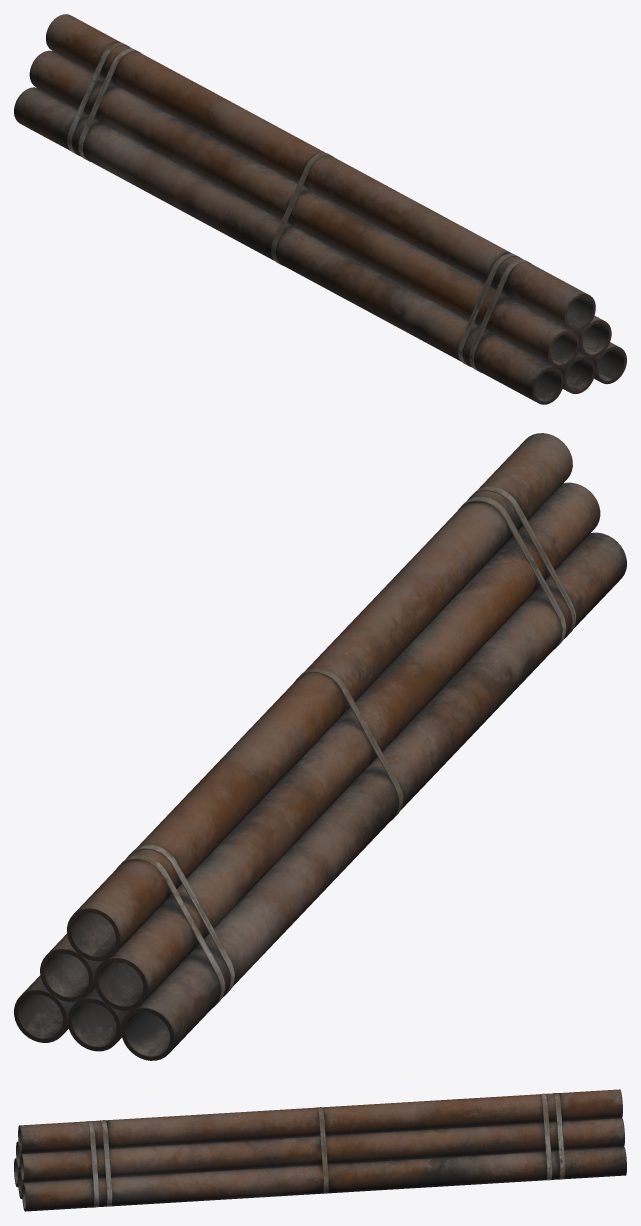
File: Tubes Scene.glb
3 renders of one model, top to bottom at view 1: azimuth 30°, elevation 25°; view 2: azimuth 150°, elevation 25°; view 3: azimuth 270°, elevation 25°, orthographic. The views are drawn at different scales.
Visible parts, largest first — view 1: Набор труб; view 2: Набор труб; view 3: Набор труб.
Part boxes in pixels (box(x1,y1,x2,y2)): Набор труб: box(14, 14, 626, 404); Набор труб: box(14, 433, 626, 1060); Набор труб: box(14, 1089, 626, 1211).
Bounding box in the file's own units: 1.13 × 0.5232 × 4.04.
2 materials, 2 textured.
